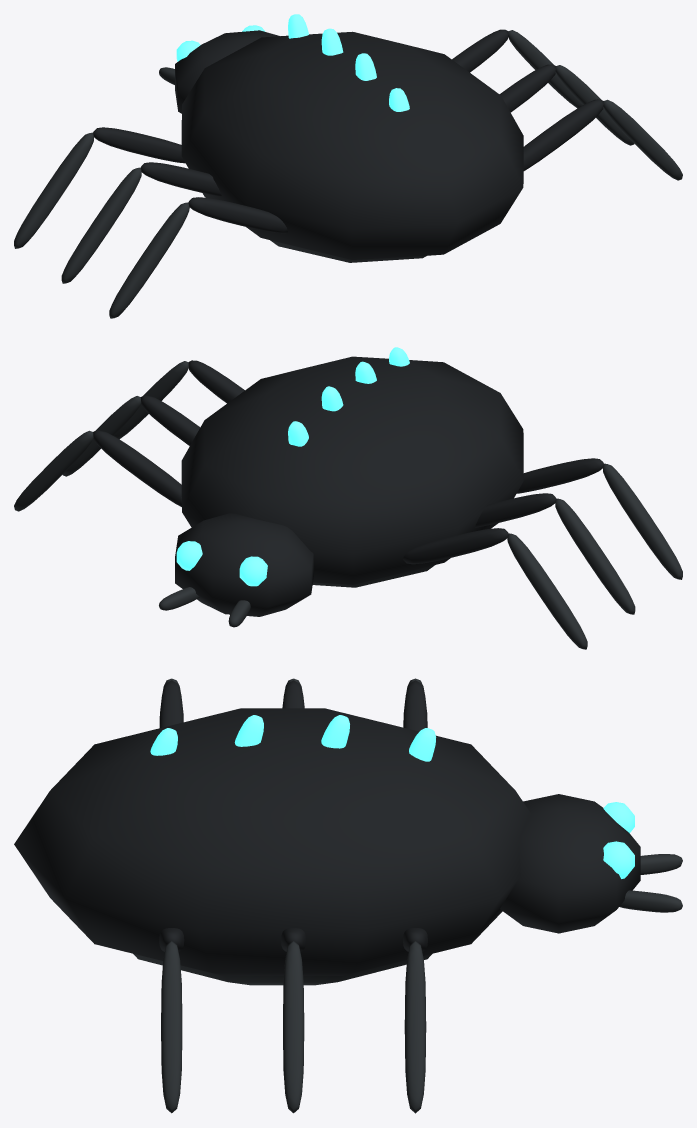
File: scuttler.glb
3 views of the same model, one above another, from view 1: azimuth 30°, elevation 25°; view 2: azimuth 150°, elevation 25°; view 3: azimuth 270°, elevation 25° (orthographic). The views are drawn at different scales.
Parts seen in each view (by area): view 1: carapace, head_shell, lowerL2, lowerL1, lowerL0, upperR2, upperL2, upperL0, lowerR2, upperL1, upperR1, lowerR1 (+5 smaller); view 2: carapace, head_shell, lowerL0, lowerL1, lowerL2, upperR0, upperL0, lowerR0, upperL2, upperL1, upperR1, lowerR1 (+6 smaller); view 3: carapace, head_shell, lowerR2, lowerR1, lowerR0, underside, mandibleR, upperL0, upperL2, eyeR, mandibleL, spine1 (+2 smaller).
Part boxes in pixels (x1,y1,x2,y2): carapace: (181, 31, 523, 259); head_shell: (175, 30, 279, 113); lowerL2: (109, 202, 189, 318); lowerL1: (61, 167, 141, 283); lowerL0: (14, 132, 93, 248); upperR2: (523, 99, 603, 170); upperL2: (188, 197, 287, 233); upperL0: (93, 127, 185, 163); lowerR2: (603, 99, 682, 180); upperL1: (141, 162, 221, 196); upperR1: (499, 64, 556, 112); lowerR1: (555, 65, 634, 145); carapace: (181, 356, 523, 584); head_shell: (175, 513, 314, 616); lowerL0: (507, 533, 587, 649); lowerL1: (555, 498, 635, 614); lowerL2: (603, 463, 682, 579); upperR0: (93, 430, 181, 506); upperL0: (403, 528, 508, 564); lowerR0: (14, 430, 93, 511); upperL2: (517, 458, 603, 493); upperL1: (475, 493, 555, 527); upperR1: (140, 395, 200, 445); lowerR1: (62, 396, 141, 476); carapace: (14, 708, 531, 975); head_shell: (500, 794, 640, 933); lowerR2: (161, 940, 182, 1113); lowerR1: (283, 940, 304, 1113); lowerR0: (404, 940, 426, 1113); underside: (133, 953, 432, 985); mandibleR: (619, 890, 682, 912); upperL0: (403, 680, 427, 731); upperL2: (159, 680, 183, 727); eyeR: (603, 841, 634, 878); mandibleL: (640, 854, 682, 874); spine1: (321, 715, 349, 748).
Size of the model in its own units: 2.36 by 0.754 by 1.87.
